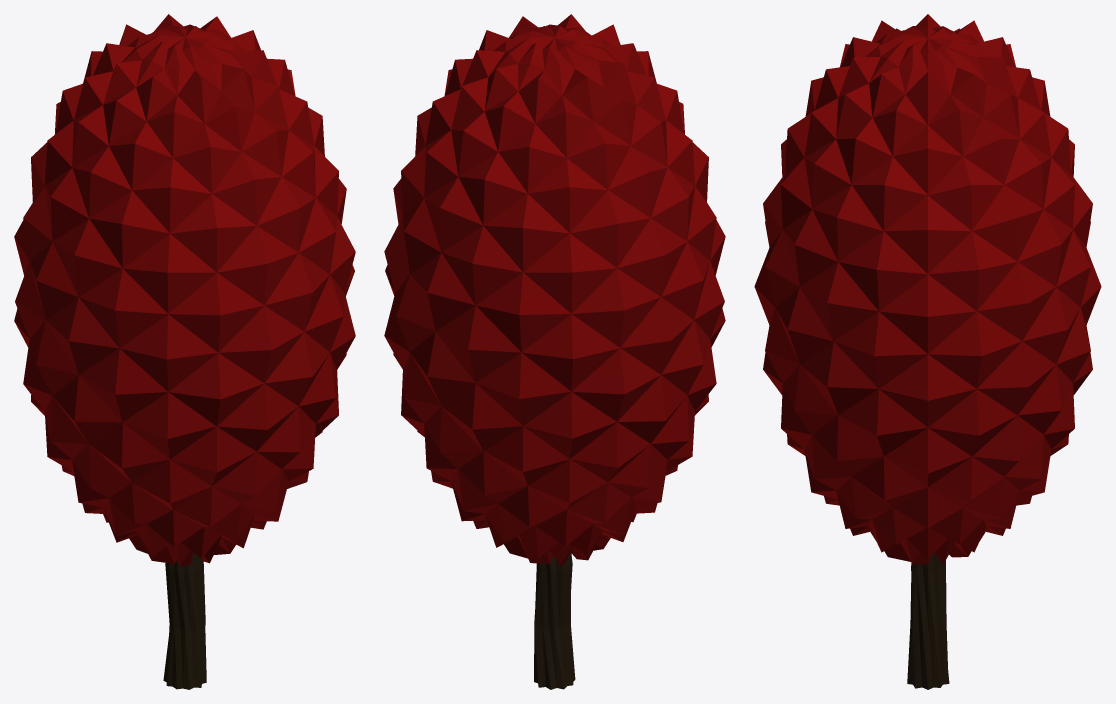
The model's file is TallSkinnyTree_Red.fbx.
The picture shows the model from 3 angles, left to right: view 1: azimuth 30°, elevation 25°; view 2: azimuth 150°, elevation 25°; view 3: azimuth 270°, elevation 25°; orthographic projection.
Visible parts, largest first — view 1: pSphere2, pCylinder2; view 2: pSphere2, pCylinder2; view 3: pSphere2, pCylinder2.
Boxes of the visible parts, x1=… form: pSphere2: x1=14, y1=14, x2=355, y2=565; pCylinder2: x1=163, y1=553, x2=206, y2=689; pSphere2: x1=384, y1=14, x2=725, y2=565; pCylinder2: x1=534, y1=552, x2=575, y2=689; pSphere2: x1=754, y1=14, x2=1101, y2=564; pCylinder2: x1=907, y1=553, x2=949, y2=689.
Size of the model in its own units: 11.59 by 24.03 by 11.73.
